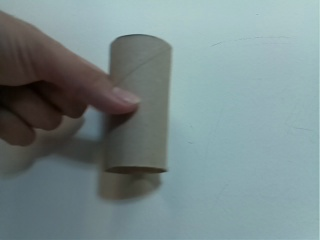rollo papel: (102, 33, 176, 180)
